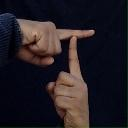hand: (45, 35, 91, 127), (15, 17, 95, 67)
